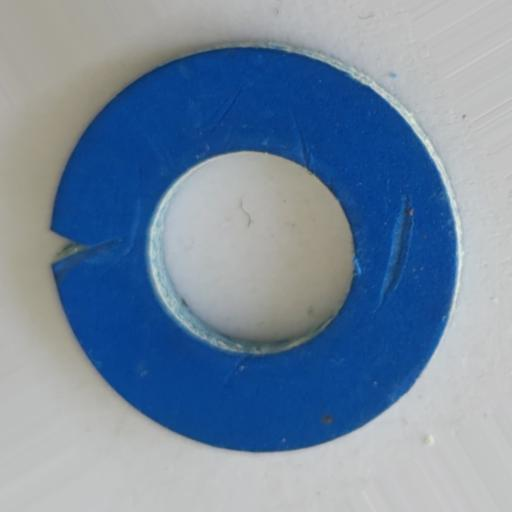defect: (375, 193, 413, 311), (51, 227, 115, 269), (203, 87, 246, 142), (294, 112, 315, 173), (221, 356, 251, 392)
